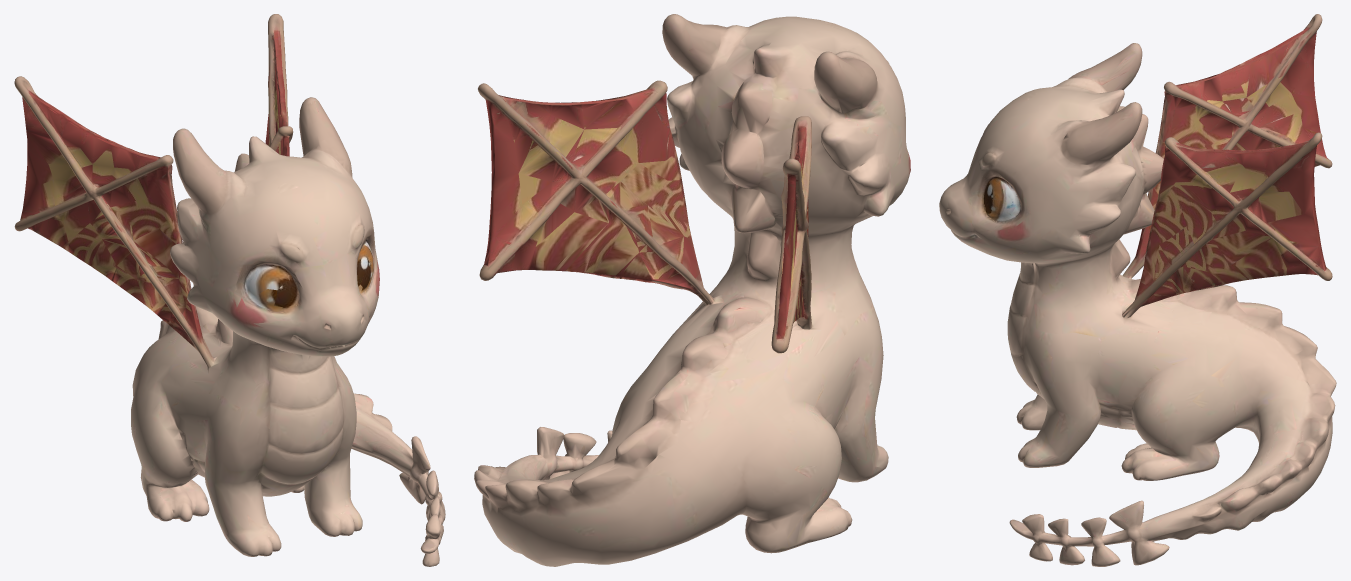
3 renders of one model, left to right at view 1: azimuth 30°, elevation 25°; view 2: azimuth 150°, elevation 25°; view 3: azimuth 270°, elevation 25°, orthographic. The views are drawn at different scales.
Parts seen in each view (by area): view 1: Mesh_0; view 2: Mesh_0; view 3: Mesh_0.
Boxes of the visible parts, box(x1,y1,x2,y2) form: Mesh_0: box(14, 14, 445, 566); Mesh_0: box(474, 14, 910, 566); Mesh_0: box(939, 14, 1336, 566).
Size of the model in its own units: 1.42 by 1.9 by 1.61.
Materials: 1 (1 with a texture image).
